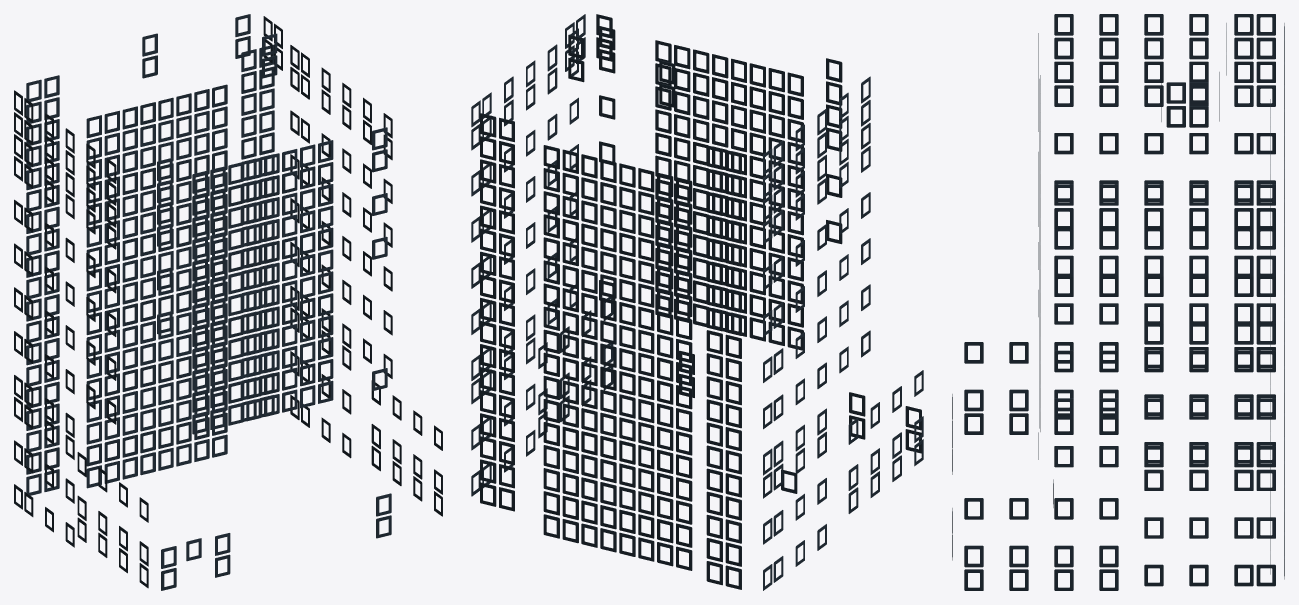
Rendered from runtime-building-162.glb.
The picture shows the model from 3 angles, left to right: view 1: azimuth 30°, elevation 25°; view 2: azimuth 150°, elevation 25°; view 3: azimuth 270°, elevation 25°; orthographic projection. The views are drawn at different scales.
Parts seen in each view (by area): view 1: building-162-cassette-export; view 2: building-162-cassette-export; view 3: building-162-cassette-export.
Part boxes in pixels (left/top/right/bottom): building-162-cassette-export: left=14, top=14, right=442, bottom=590; building-162-cassette-export: left=471, top=14, right=923, bottom=590; building-162-cassette-export: left=952, top=14, right=1284, bottom=590.
Size of the model in its own units: 59.21 by 87.8 by 53.27.
